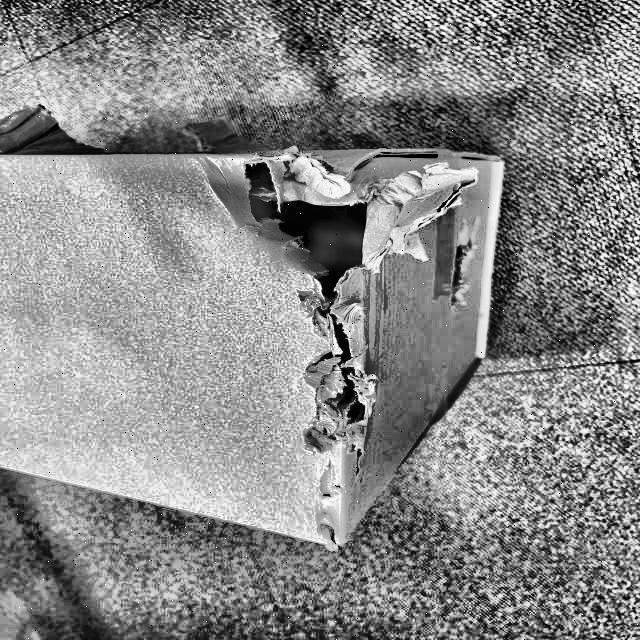box: (0, 112, 534, 554)
hole: (229, 148, 375, 424)
